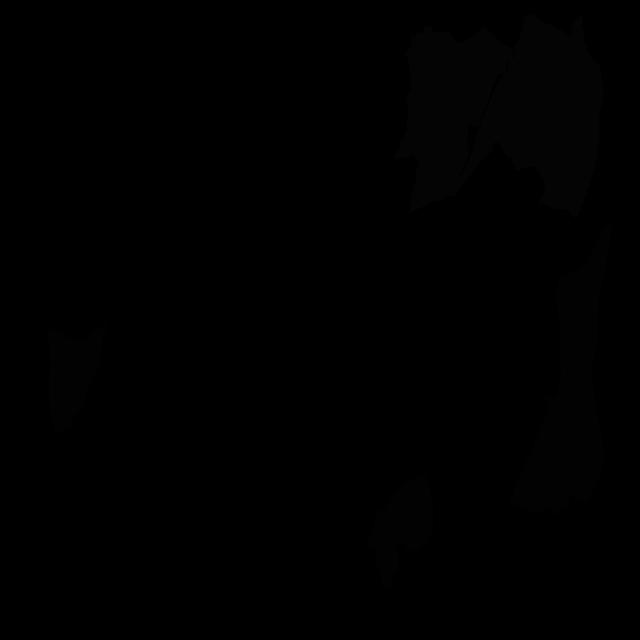cardboard: (509, 224, 613, 515), (368, 473, 433, 591), (46, 323, 108, 435)
soft_plastic: (447, 14, 604, 219), (394, 26, 514, 214)
